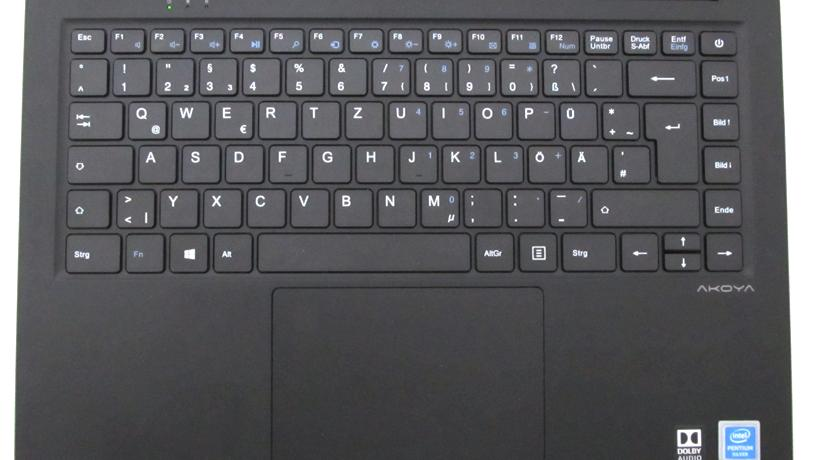0: (498, 56, 537, 95)
1: (109, 55, 148, 94)
2: (152, 54, 192, 94)
3: (195, 54, 235, 94)
4: (239, 54, 278, 93)
5: (282, 54, 322, 94)
6: (325, 54, 365, 94)
7: (370, 55, 408, 94)
8: (412, 55, 451, 94)
9: (456, 56, 495, 95)
a: (135, 141, 175, 182)
accent: (582, 57, 620, 95)
ae: (567, 142, 606, 182)
alt-left: (209, 230, 250, 271)
altgr-right: (472, 229, 512, 270)
b: (330, 184, 371, 226)
c: (243, 185, 284, 226)
caret: (66, 55, 105, 94)
comma: (460, 185, 500, 226)
d: (221, 140, 261, 181)
del: (624, 57, 695, 96)
e: (211, 97, 251, 138)
enter: (642, 99, 696, 182)
f: (266, 140, 305, 181)
g: (309, 140, 349, 181)
h: (352, 140, 392, 181)
hash: (610, 142, 647, 182)
i: (429, 98, 468, 138)
j: (396, 141, 435, 182)
k: (439, 141, 479, 181)
keyboard: (53, 16, 752, 285)
l: (483, 142, 521, 182)
less: (113, 185, 152, 227)
m: (417, 185, 458, 226)
minus: (546, 186, 585, 226)
n: (374, 185, 414, 226)
o: (471, 98, 511, 138)
oe: (525, 142, 564, 182)
p: (514, 98, 554, 138)
plus: (599, 99, 637, 138)
point: (503, 185, 543, 226)
q: (124, 98, 165, 138)
r: (255, 97, 294, 137)
s: (178, 141, 218, 181)
shift-left: (62, 186, 107, 227)
shift-lock: (63, 141, 131, 183)
shift-right: (589, 185, 698, 225)
space: (254, 228, 468, 272)
ss: (540, 56, 578, 95)
strg-left: (59, 230, 119, 272)
strg-right: (557, 229, 615, 270)
t: (298, 97, 337, 137)
tab: (65, 97, 119, 138)
u: (385, 98, 425, 138)
ue: (556, 99, 595, 138)
v: (287, 184, 327, 226)
w: (168, 97, 207, 137)
x: (200, 185, 239, 226)
y: (156, 185, 196, 226)
z: (345, 101, 385, 141)
